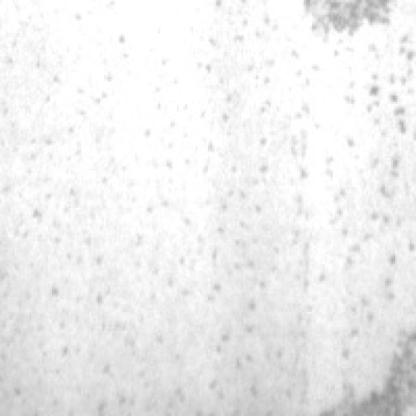pitted_surface: (8, 21, 148, 397), (181, 0, 304, 410), (333, 34, 412, 316), (322, 326, 414, 412), (297, 0, 393, 40)
